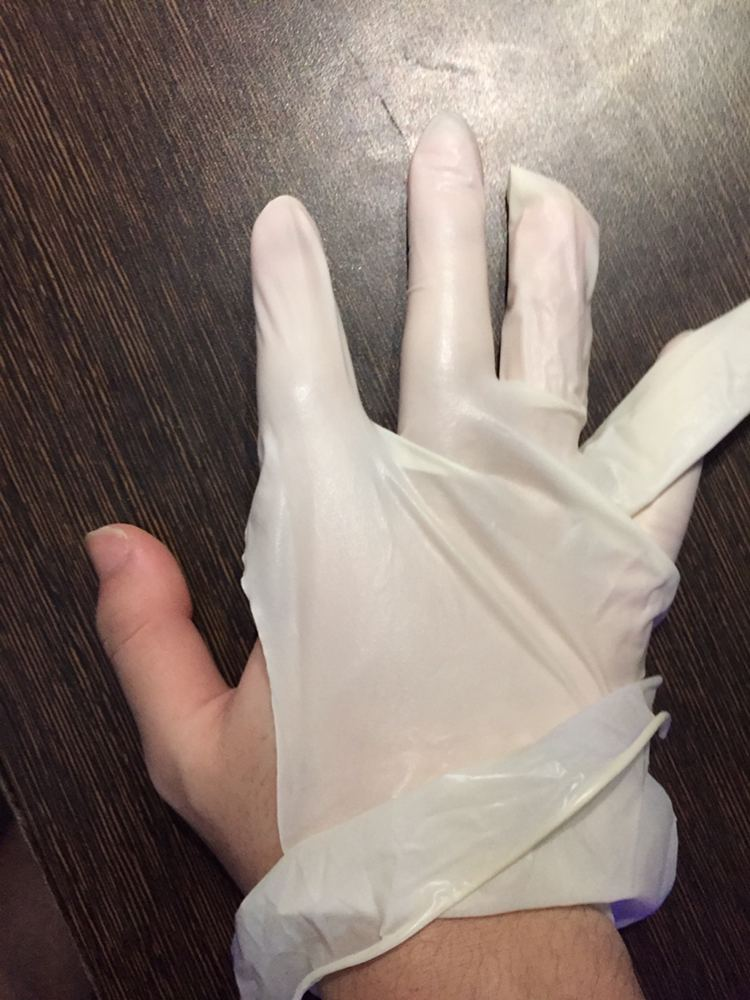defected: (60, 113, 750, 845)
